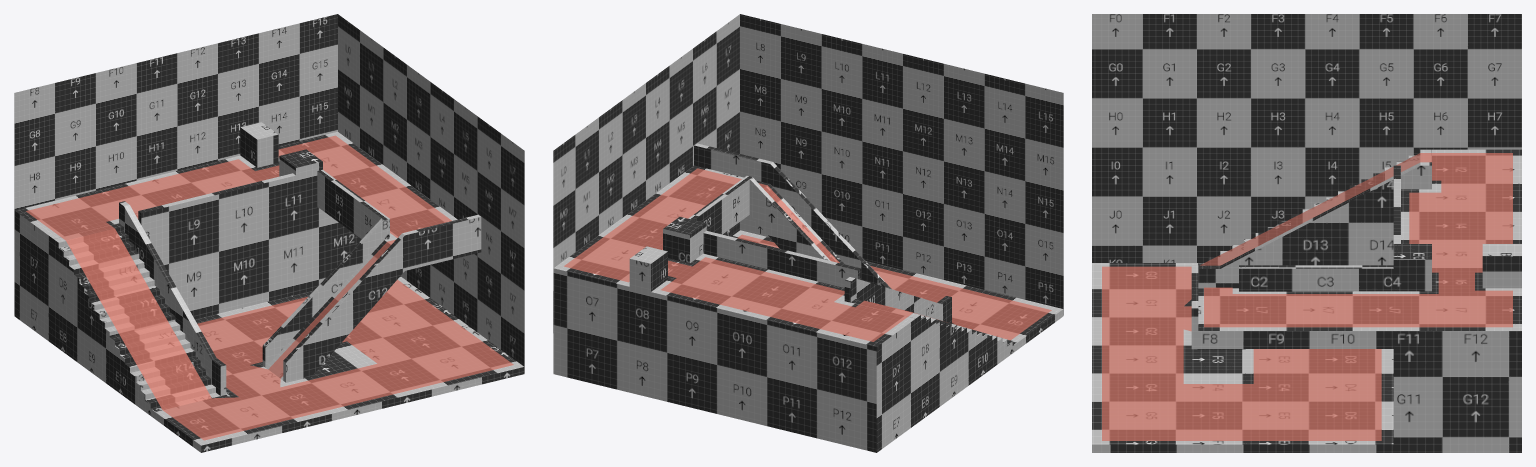
File: nav_room.glb
3 views of the same model, side by side, from view 1: azimuth 30°, elevation 25°; view 2: azimuth 150°, elevation 25°; view 3: azimuth 270°, elevation 25° (orthographic). The views are drawn at different scales.
Parts seen in each view (by area): view 1: Room, Walls, Nav_Mesh; view 2: Room, Walls, Nav_Mesh; view 3: Room, Walls, Nav_Mesh.
Boxes of the visible parts, left/top/right/bottom form: Room: left=14, top=122, right=524, bottom=452; Walls: left=14, top=14, right=524, bottom=373; Nav_Mesh: left=26, top=135, right=513, bottom=440; Room: left=553, top=143, right=1063, bottom=452; Walls: left=553, top=14, right=1063, bottom=373; Nav_Mesh: left=564, top=168, right=1051, bottom=341; Room: left=1092, top=149, right=1521, bottom=452; Walls: left=1092, top=14, right=1521, bottom=262; Nav_Mesh: left=1102, top=153, right=1512, bottom=440.
Size of the model in its own units: 11.57 by 7.64 by 11.57.
Materials: 3 (2 with a texture image).
